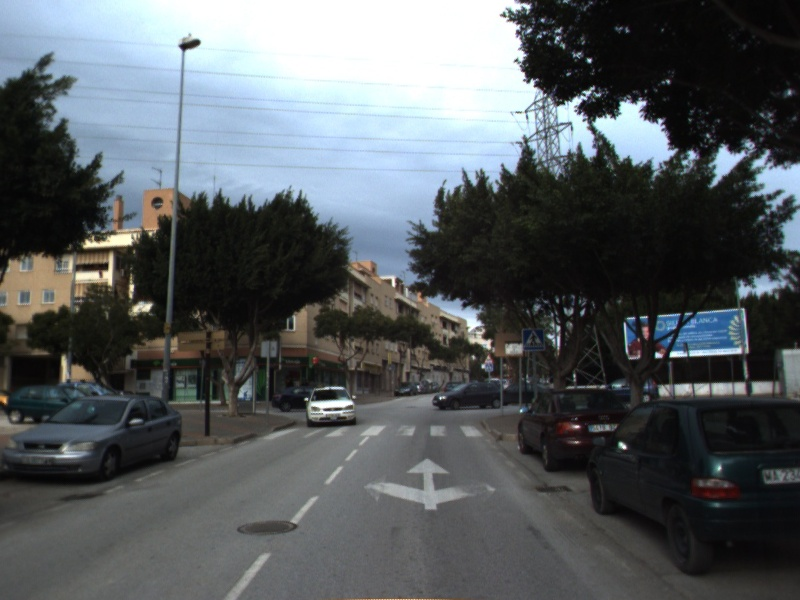STRAIGHT_LEFT_RIGHT: (362, 456, 499, 512)
